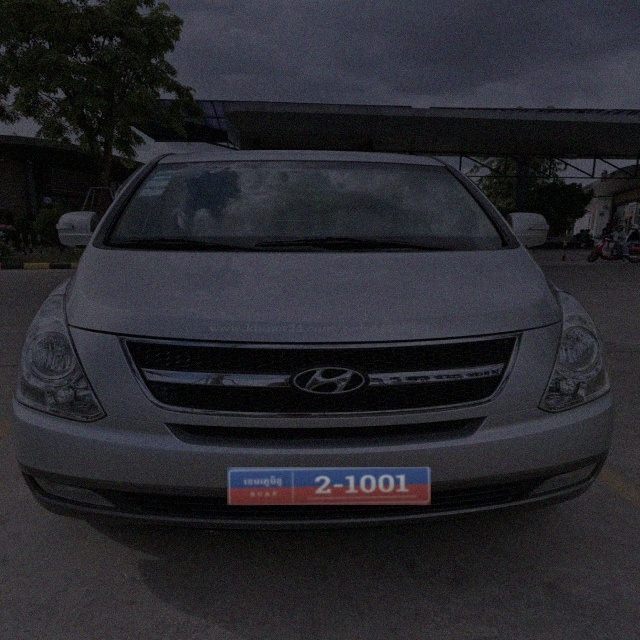Plate Number: (228, 468, 431, 506)
